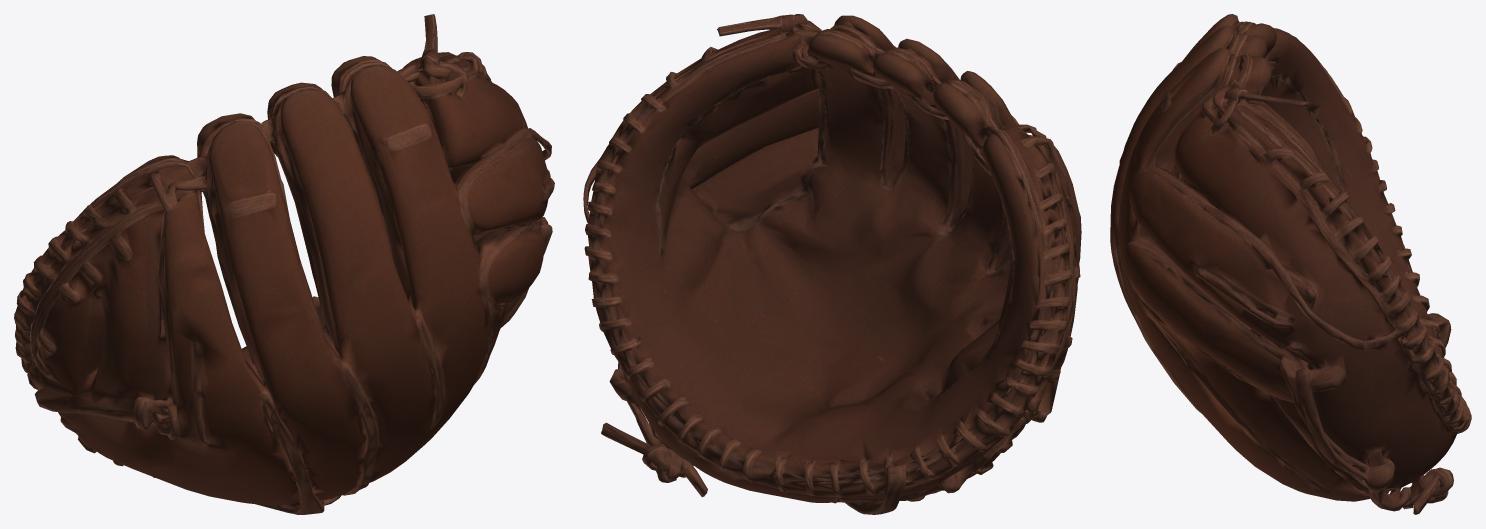
File: catcher_mitt.glb
3 renders of one model, left to right at view 1: azimuth 30°, elevation 25°; view 2: azimuth 150°, elevation 25°; view 3: azimuth 270°, elevation 25°, orthographic. The views are drawn at different scales.
Size of the model in its own units: 1.9 by 1.65 by 1.22.
1 material, 1 textured.
